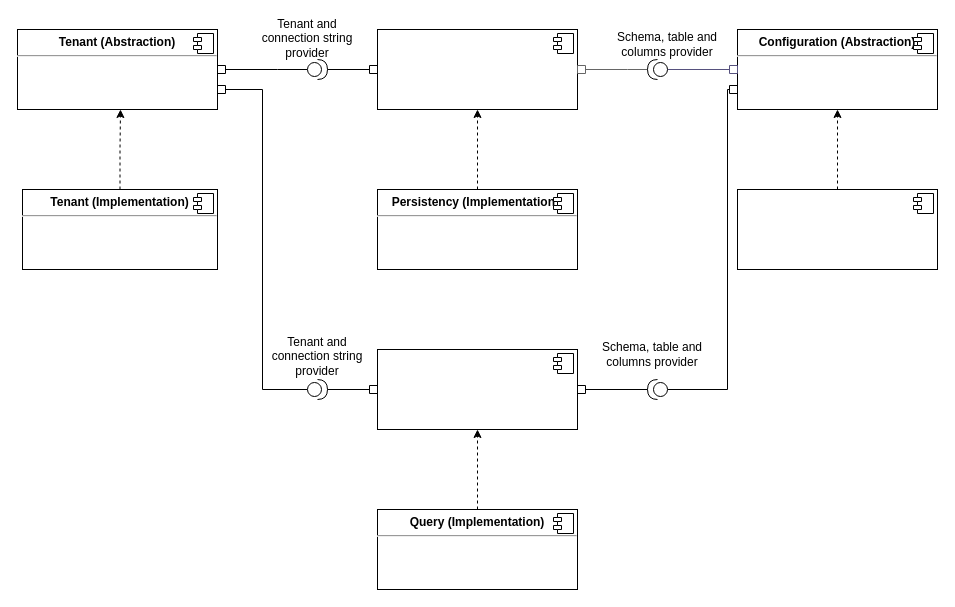
The diagram is 955 pixels wide and 607 high, and some of its shapes have lost their labels. The shapes that lost their labels are listed below. From the top down, each one's centre as x and y in pixels, then its label:
At pixel 477 69: "Persistency (Abstraction)".
At pixel 837 229: "Configuration (Implementation)".
At pixel 477 389: "Query (Abstraction)".
